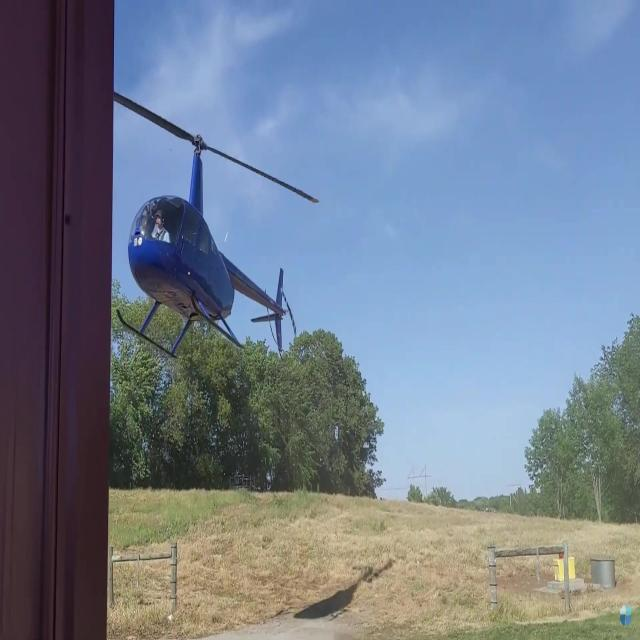CIV_HELO: (116, 131, 286, 361)
